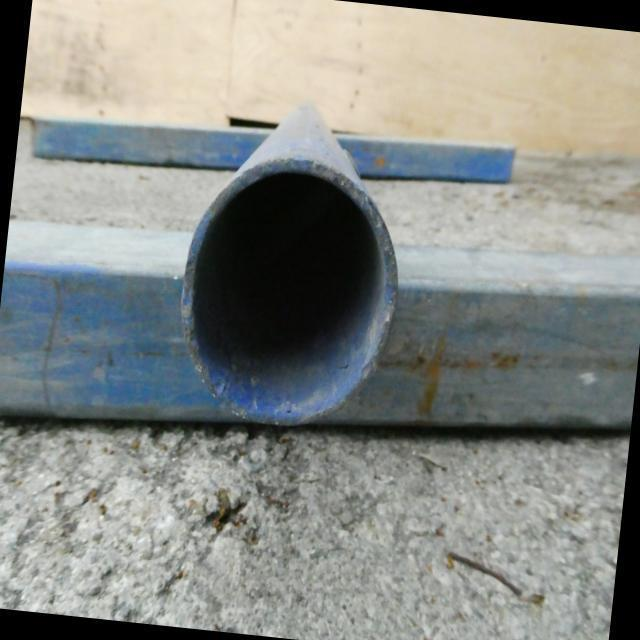pipe: (179, 159, 398, 425)
